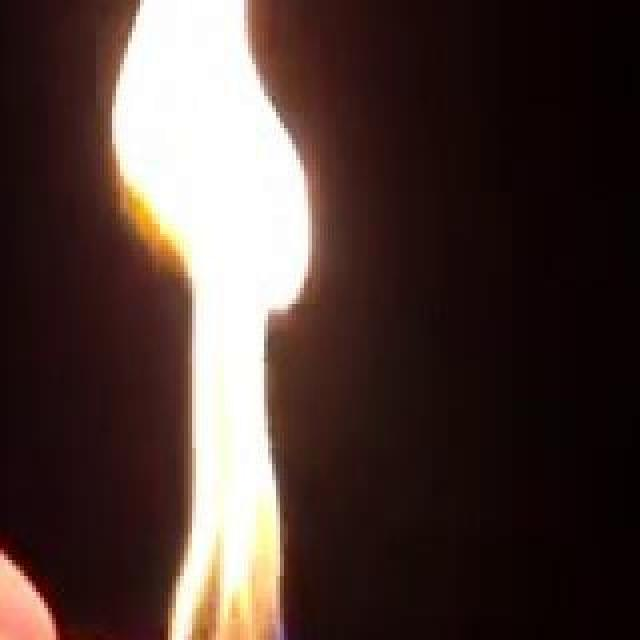fire: (74, 0, 314, 640)
